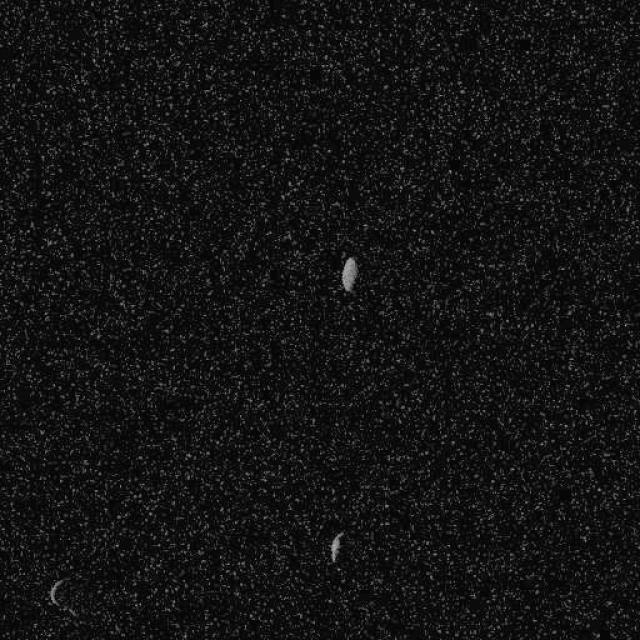D2: (340, 255, 358, 293), (47, 576, 65, 608), (328, 530, 344, 562)
